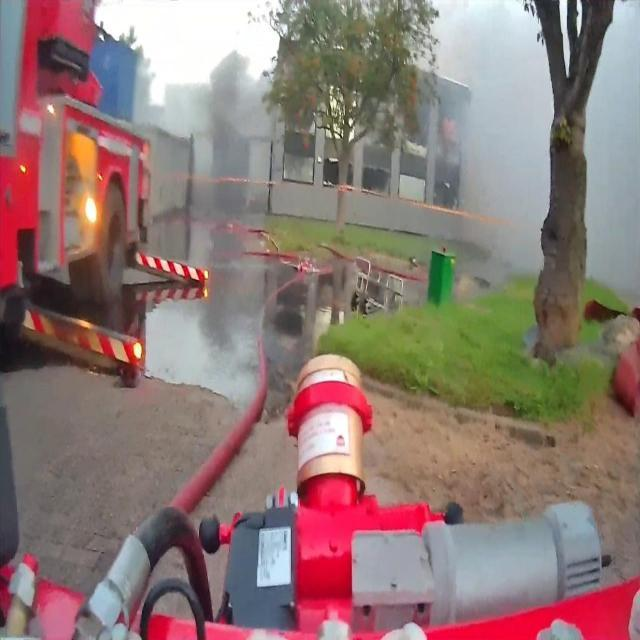Fire: (324, 86, 356, 142)
Smoke: (210, 48, 270, 146)
